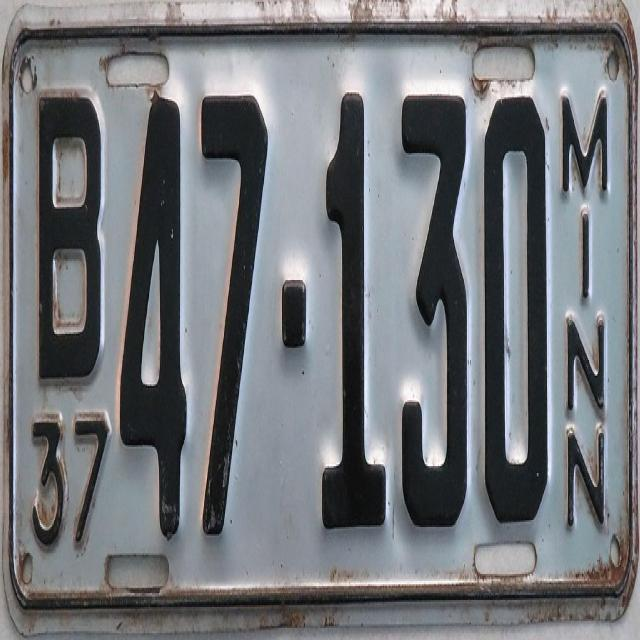placa: (110, 48, 564, 554)
